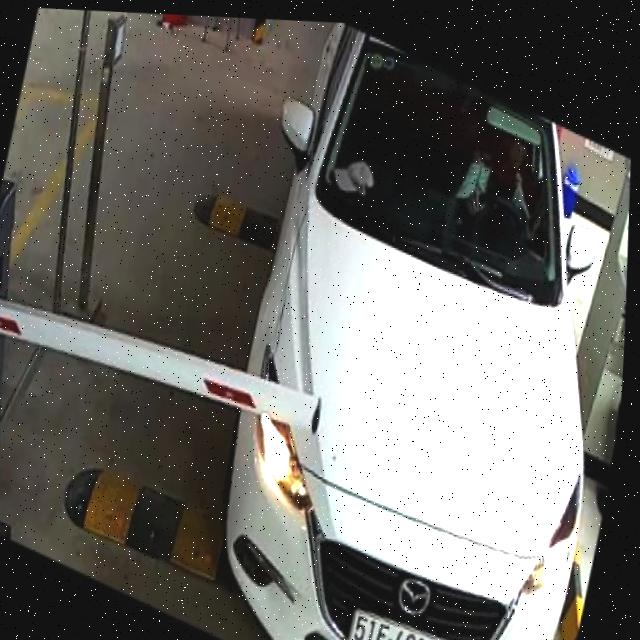car: (202, 16, 620, 640)
plate: (347, 598, 460, 640)
